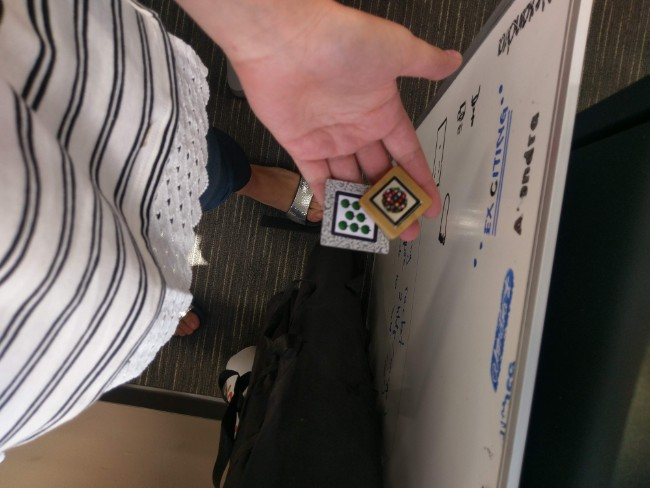cookie: (370, 177, 420, 225)
